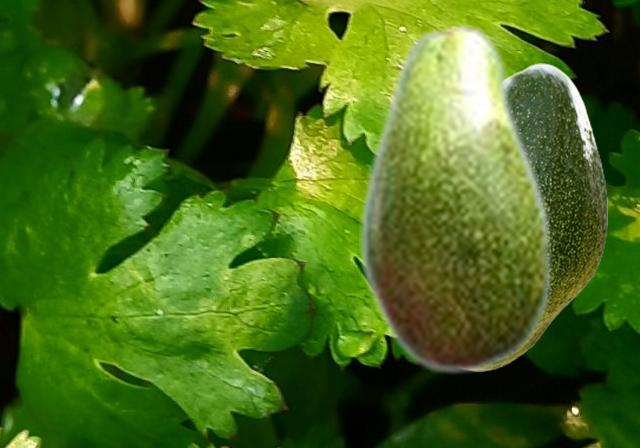avocado: (359, 20, 553, 376), (483, 63, 606, 370)
